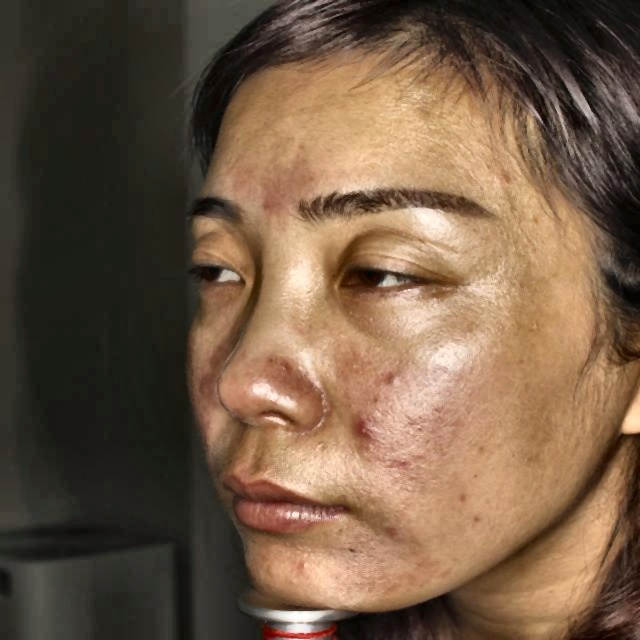comedone: (286, 550, 318, 581), (351, 416, 384, 444), (259, 193, 284, 218)
